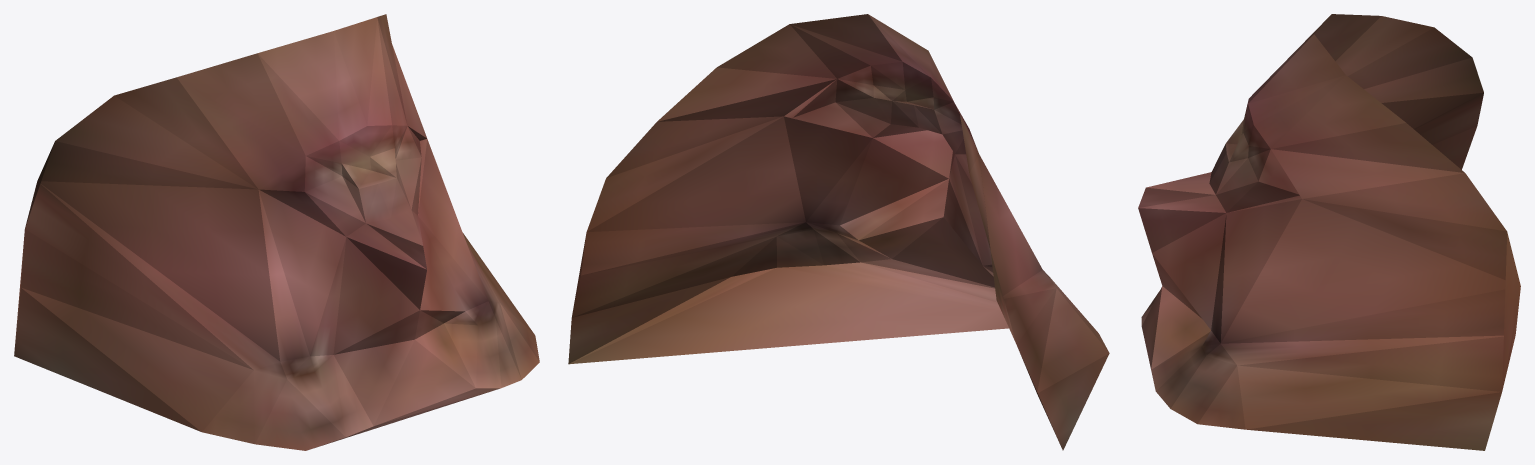
Rendered from real_2465.obj.
3 views of the same model, side by side, from view 1: azimuth 30°, elevation 25°; view 2: azimuth 150°, elevation 25°; view 3: azimuth 270°, elevation 25° (orthographic). The views are drawn at different scales.
Bounding box in the file's own units: 115 × 80 × 84.72.
